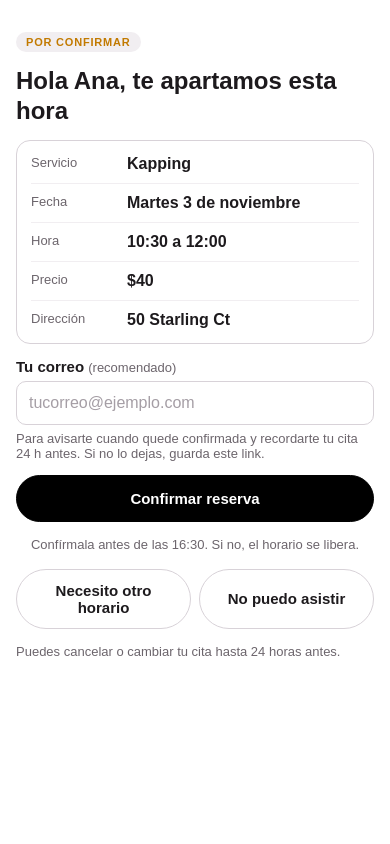
Test: ConfirmarComponent (link de la clienta) › confirmar
Click the button "Confirmar reserva" at (195, 498), box [16,475,374,522]
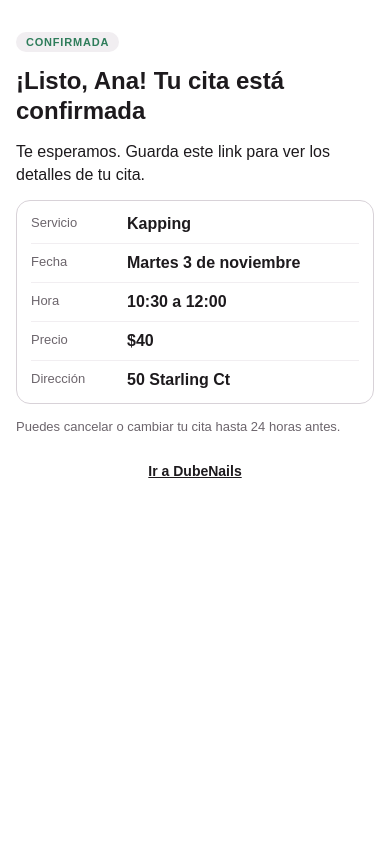
Result: the text "Tu cita está confirmada" is shown at [16,67,284,124]
